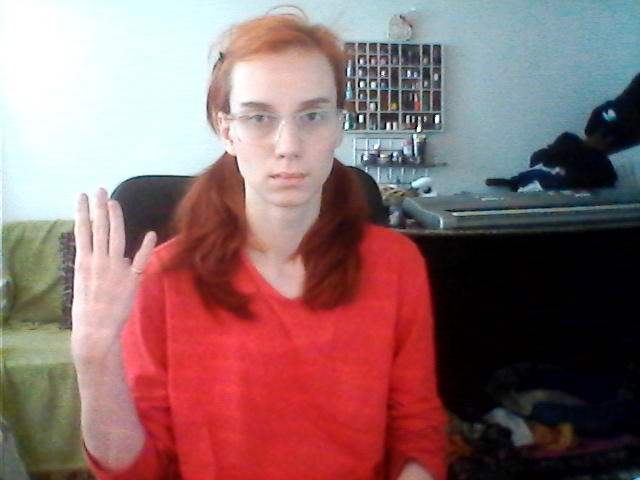styri: (47, 187, 171, 362)
